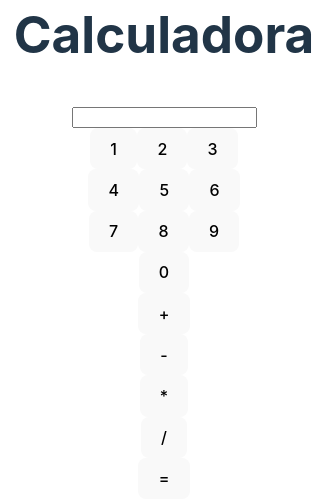
Test case: calculadora › debe renderizar al presionar un numero
The image size is (328, 499).
Click the button "1" at [114, 149], box 90,128 -> 137,170
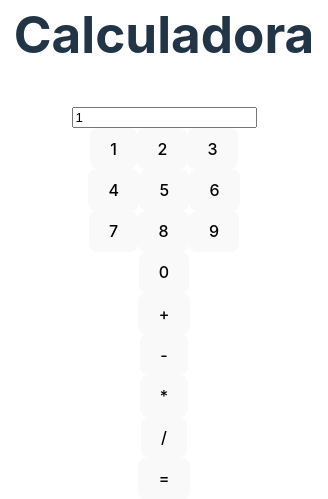
Now the field holds "1", box 72,107 -> 256,128
